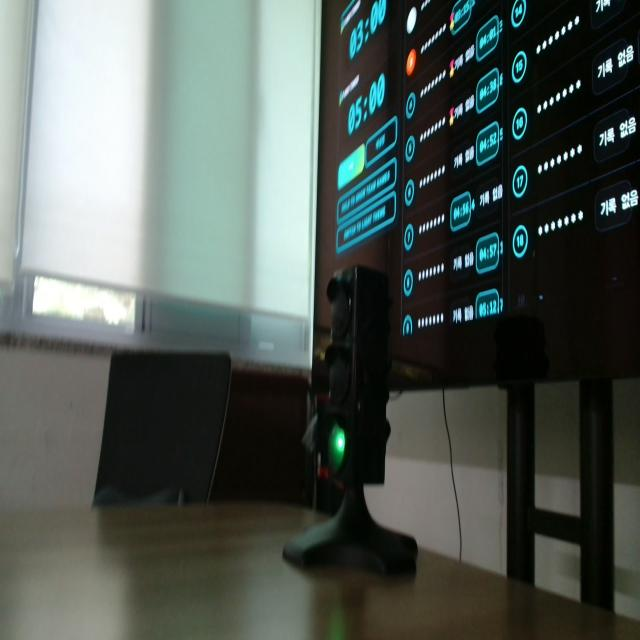green_light: (329, 424, 345, 469)
